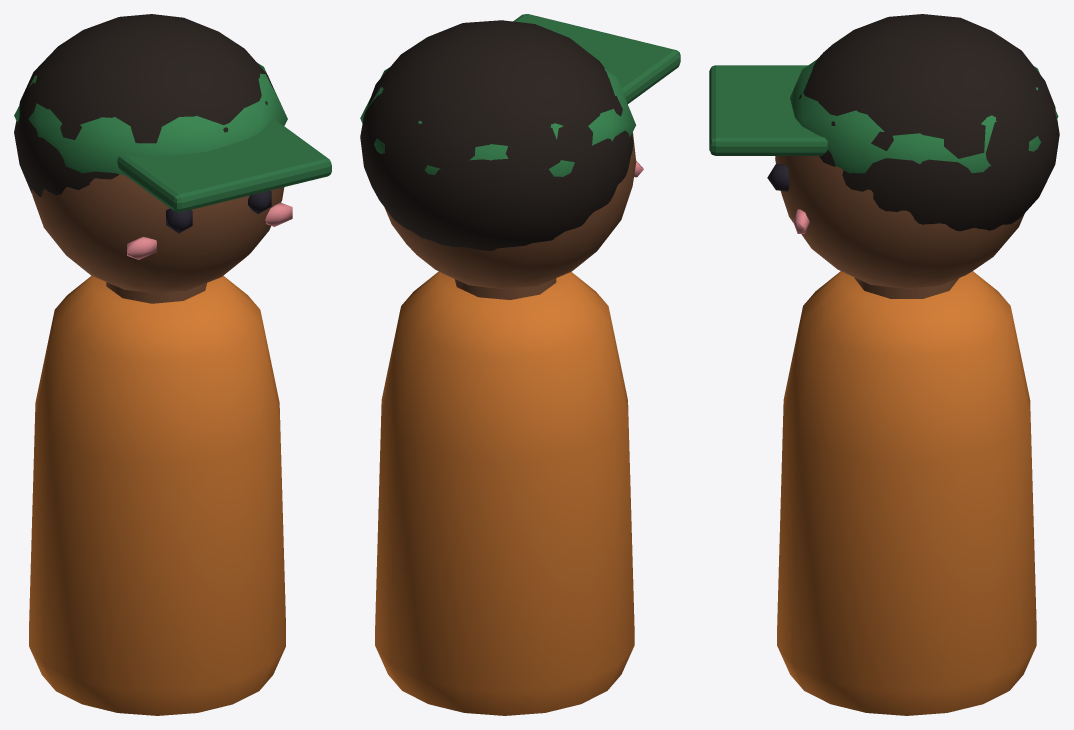
Rendered from person_camper_a.fbx.
3 renders of one model, left to right at view 1: azimuth 30°, elevation 25°; view 2: azimuth 150°, elevation 25°; view 3: azimuth 270°, elevation 25°, orthographic.
Parts seen in each view (by area): view 1: Body, Head; view 2: Body, Head; view 3: Body, Head.
Part boxes in pixels (box(x1,y1,x2,y2)): Body: box(29, 275, 285, 715); Head: box(14, 14, 331, 292); Body: box(375, 271, 634, 715); Head: box(360, 14, 680, 288); Body: box(777, 271, 1036, 715); Head: box(709, 14, 1059, 288).
Bounding box in the file's own units: 0.208 × 0.5394 × 0.266.
